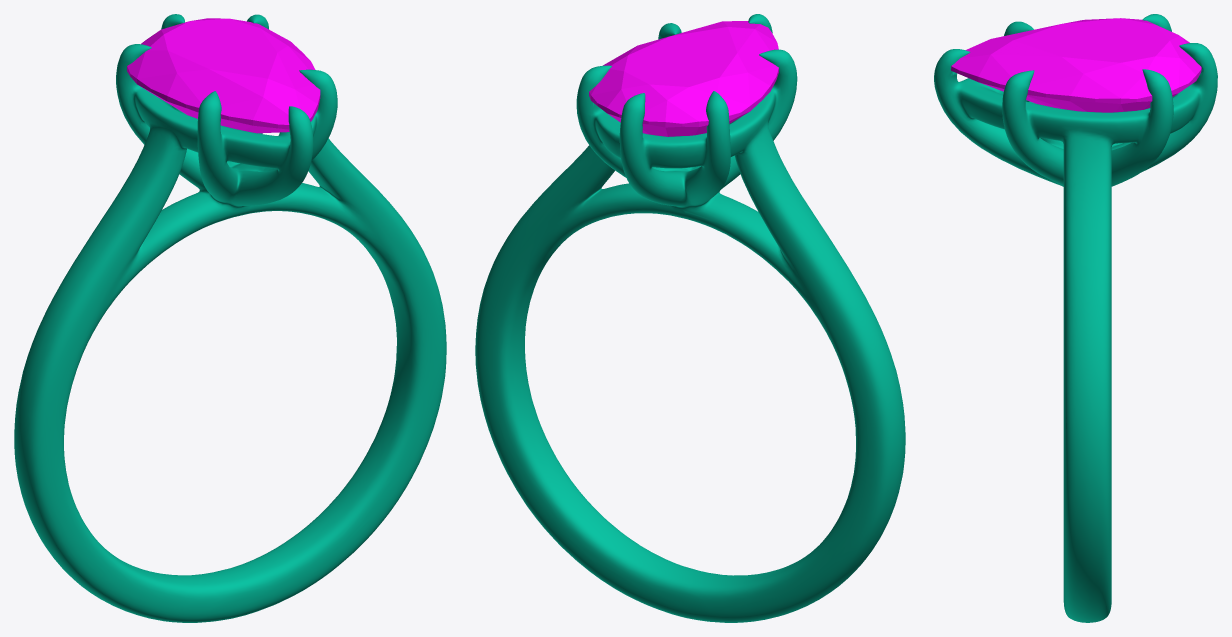
The model's file is BE12112_PE_200ct_RENDER.glb.
3 renders of one model, left to right at view 1: azimuth 30°, elevation 25°; view 2: azimuth 150°, elevation 25°; view 3: azimuth 270°, elevation 25°, orthographic.
Visible parts, largest first — view 1: Metal 01, CS_Diamond_Pear; view 2: Metal 01, CS_Diamond_Pear; view 3: Metal 01, CS_Diamond_Pear.
Part boxes in pixels (left/top/right/bottom): Metal 01: left=14, top=14, right=446, bottom=622; CS_Diamond_Pear: left=127, top=18, right=320, bottom=133; Metal 01: left=475, top=14, right=905, bottom=622; CS_Diamond_Pear: left=589, top=21, right=778, bottom=136; Metal 01: left=934, top=14, right=1217, bottom=622; CS_Diamond_Pear: left=951, top=18, right=1201, bottom=112.
Size of the model in its own units: 20.14 by 25.65 by 11.78.
